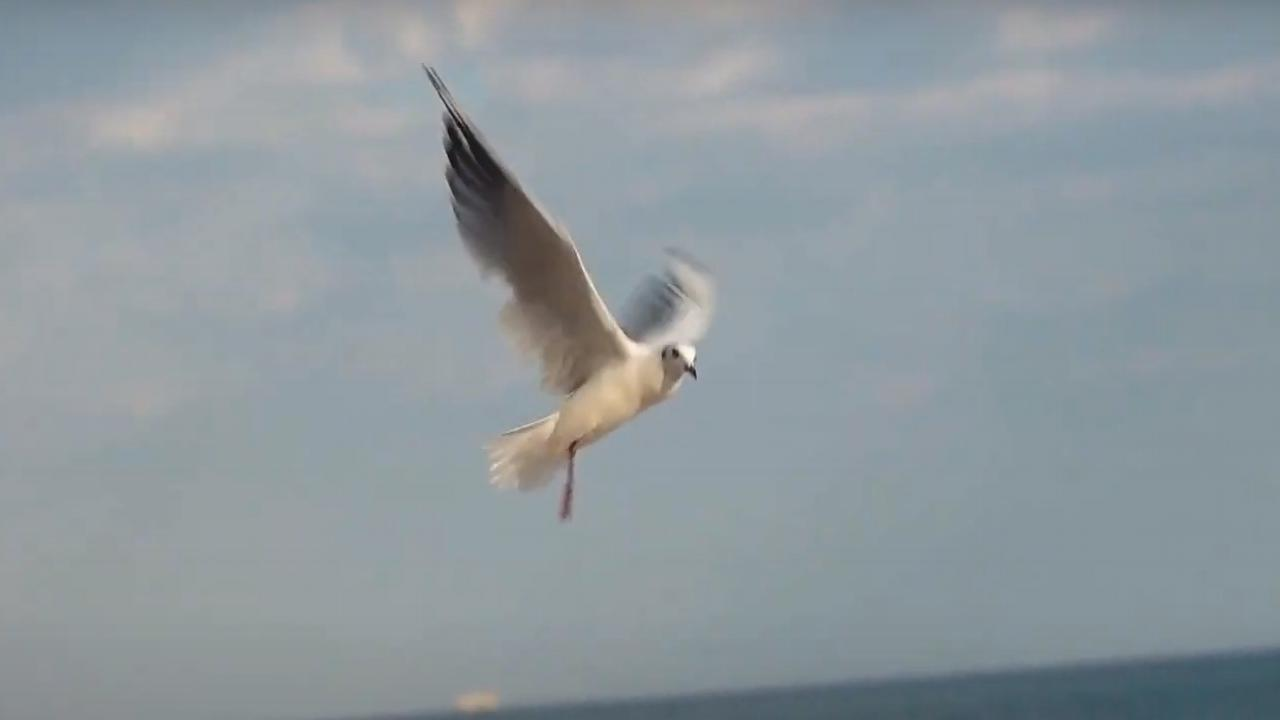Bird: (414, 53, 724, 530)
